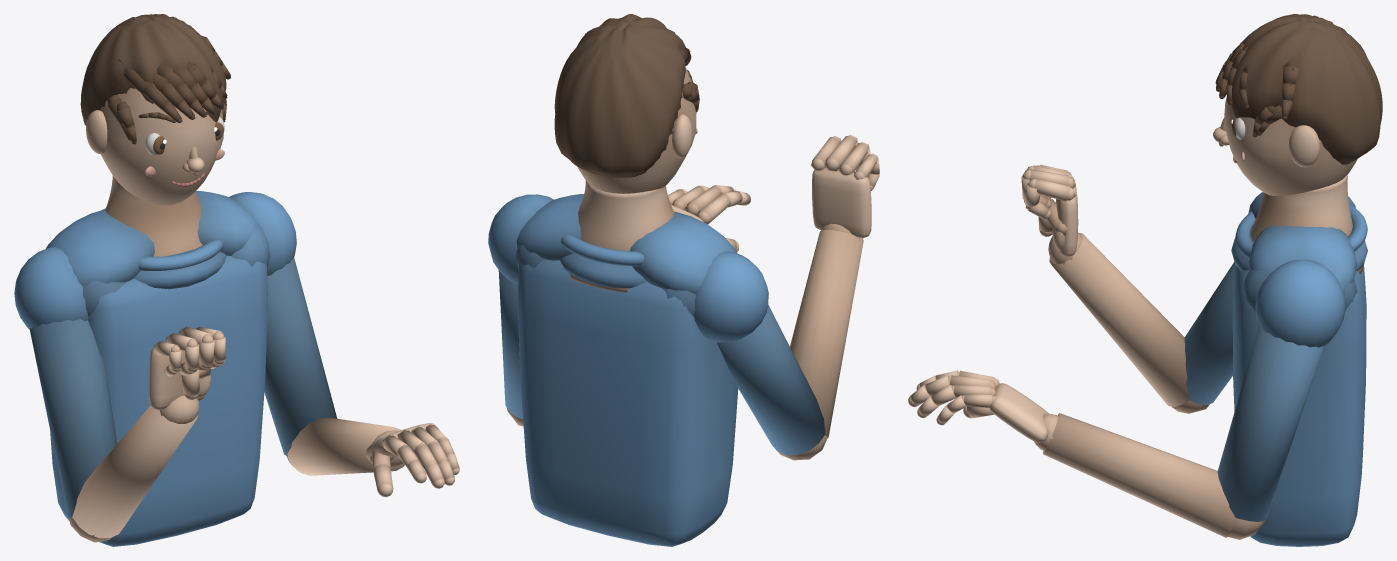
3 views of the same model, side by side, from view 1: azimuth 30°, elevation 25°; view 2: azimuth 150°, elevation 25°; view 3: azimuth 270°, elevation 25° (orthographic).
Visible parts, largest first — view 1: LSC_Body; view 2: LSC_Body; view 3: LSC_Body.
Part boxes in pixels (x1,y1,x2,y2): LSC_Body: (14, 14, 459, 546); LSC_Body: (488, 14, 879, 546); LSC_Body: (908, 14, 1382, 546).
Size of the model in its own units: 0.4304 by 0.713 by 0.6104.
